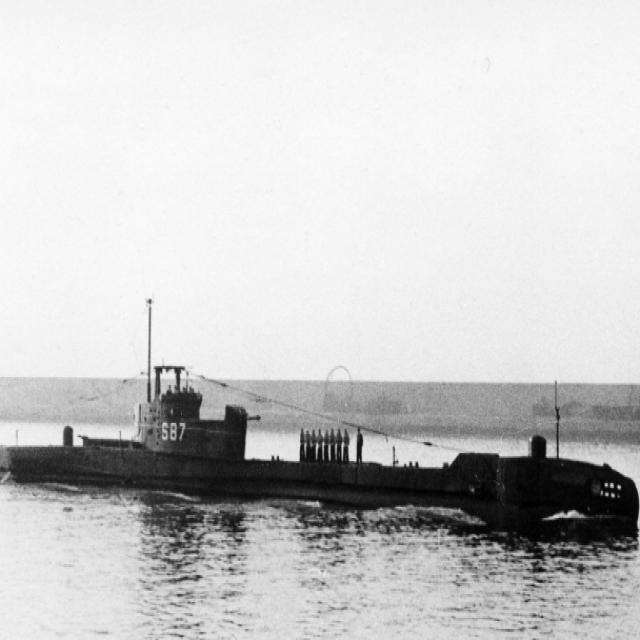submarine: (23, 361, 640, 529)
